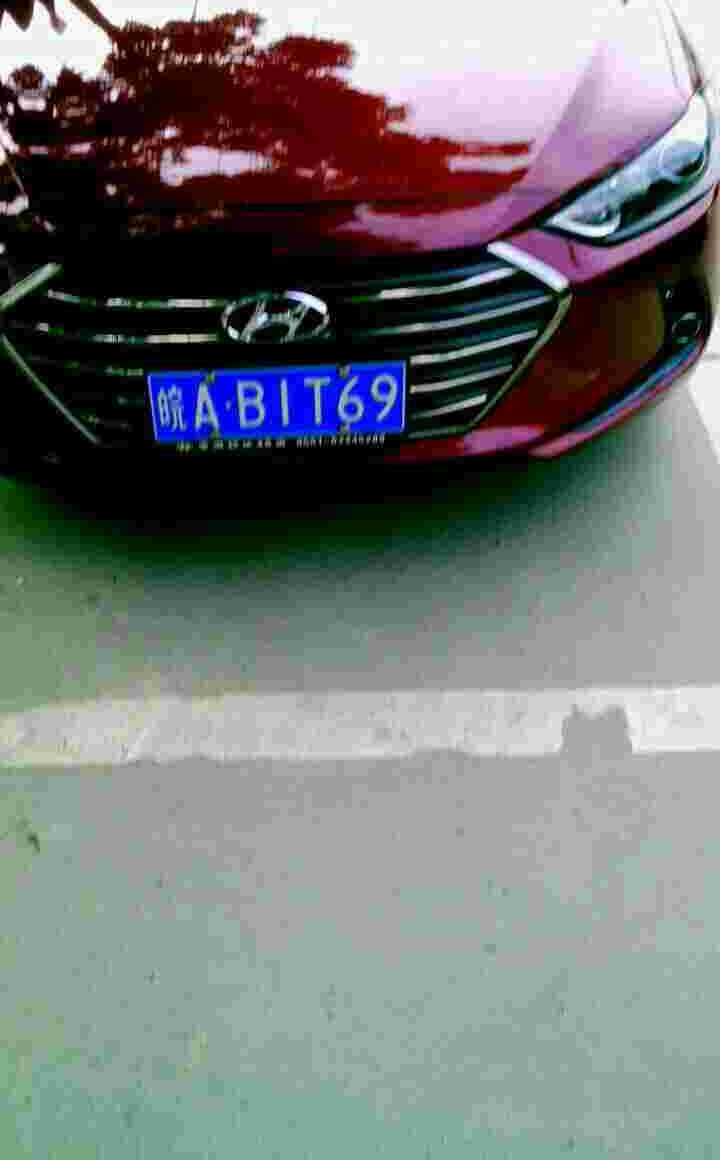license_plate: (135, 365, 420, 457)
